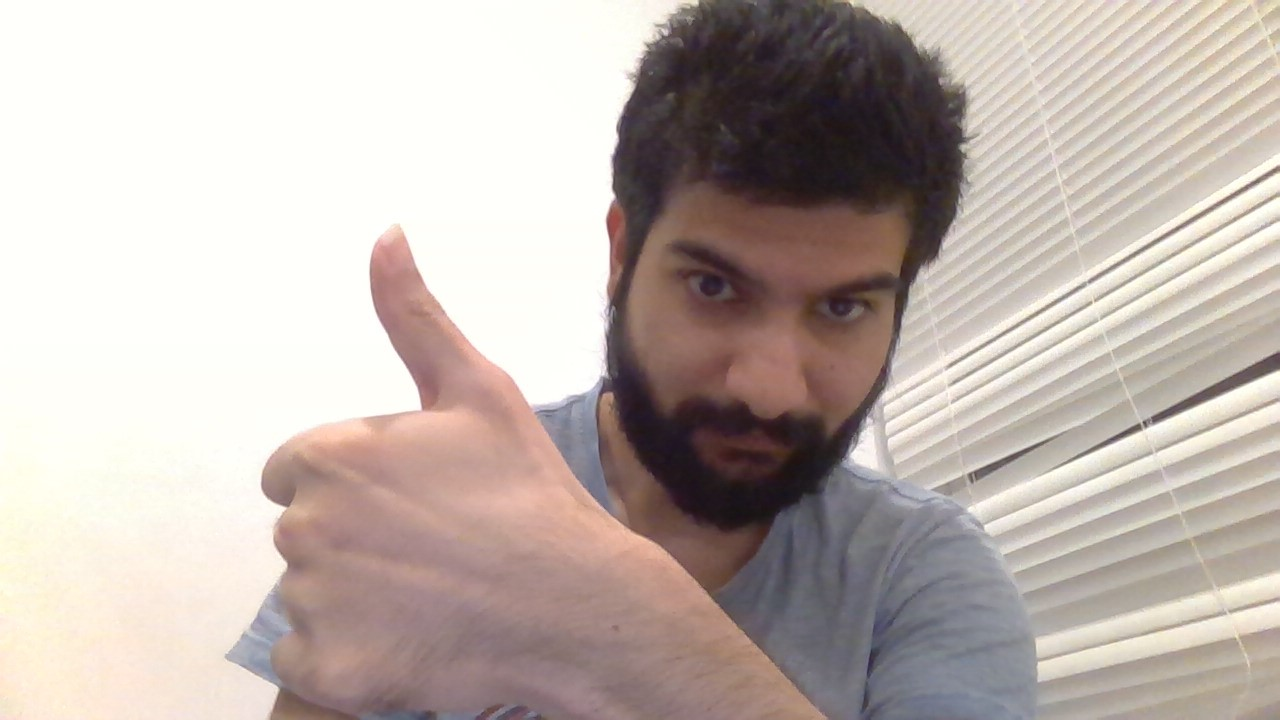up: (227, 212, 566, 720)
